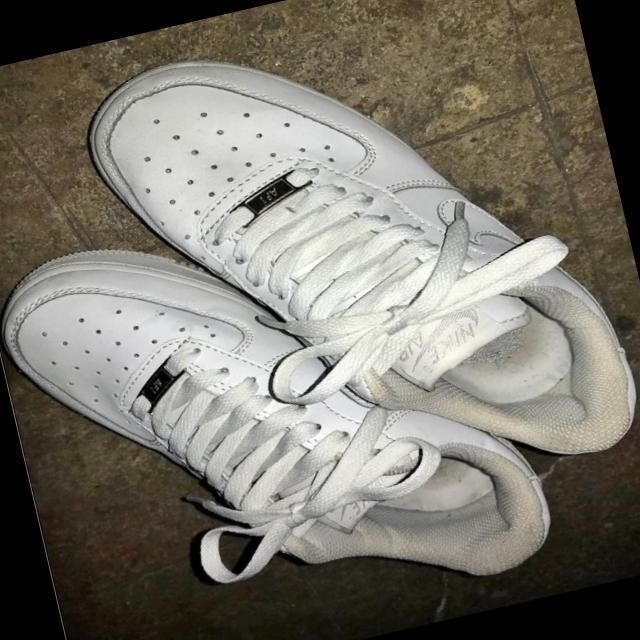nike fake air force: (71, 0, 640, 549), (0, 160, 562, 640)
